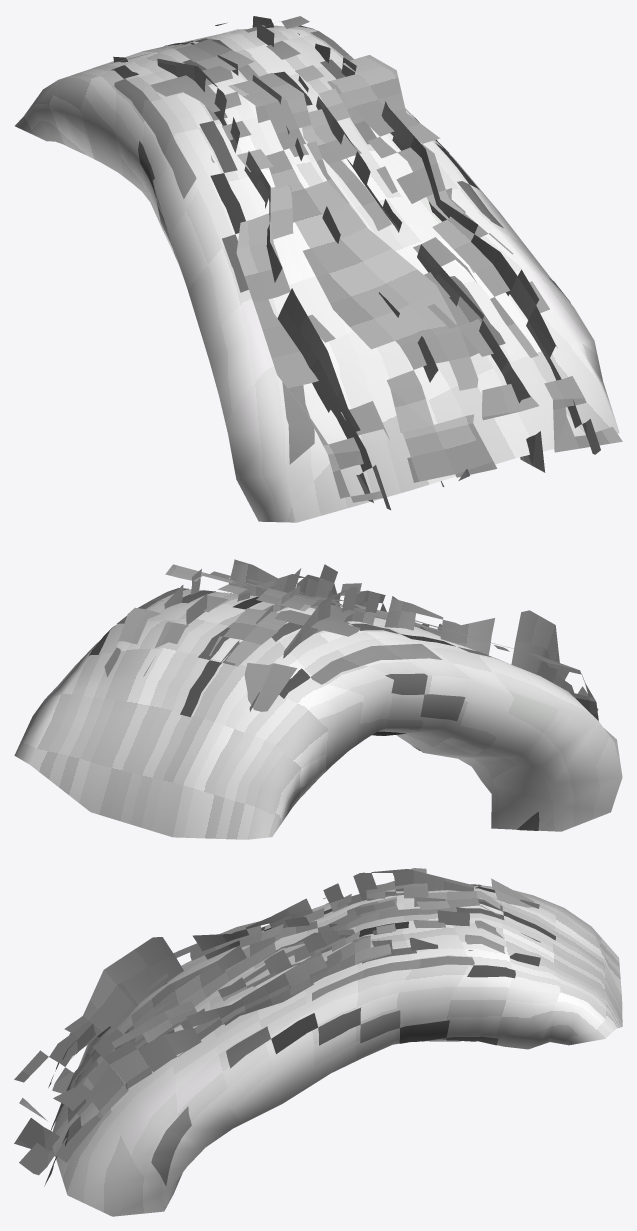
File: vanilla_effects_fxwaterfallbodyslope-5f51eaf2.glb
The picture shows the model from 3 angles, top to bottom: view 1: azimuth 30°, elevation 25°; view 2: azimuth 150°, elevation 25°; view 3: azimuth 270°, elevation 25°; orthographic projection. The views are drawn at different scales.
Visible parts, largest first — view 1: es|FXWaterfallBodySlopeMesh01, es|L2_whiteCrossStream04, es|FXWaterfallBodySlopeFoam; view 2: es|FXWaterfallBodySlopeMesh01, es|L2_whiteCrossStream04, es|FXWaterfallBodySlopeFoam; view 3: es|FXWaterfallBodySlopeMesh01, es|L2_whiteCrossStream04, es|FXWaterfallBodySlopeFoam.
Part boxes in pixels (x1,y1,x2,y2): es|FXWaterfallBodySlopeMesh01: [15, 25, 619, 522]; es|L2_whiteCrossStream04: [108, 16, 622, 509]; es|FXWaterfallBodySlopeFoam: [111, 25, 570, 464]; es|FXWaterfallBodySlopeMesh01: [14, 589, 622, 839]; es|L2_whiteCrossStream04: [104, 559, 598, 720]; es|FXWaterfallBodySlopeFoam: [88, 588, 539, 830]; es|FXWaterfallBodySlopeMesh01: [52, 885, 622, 1216]; es|L2_whiteCrossStream04: [14, 868, 540, 1186]; es|FXWaterfallBodySlopeFoam: [97, 884, 555, 1186].
Bounding box in the file's own units: 12.49 × 10.19 × 21.01.
3 materials, 3 textured.
